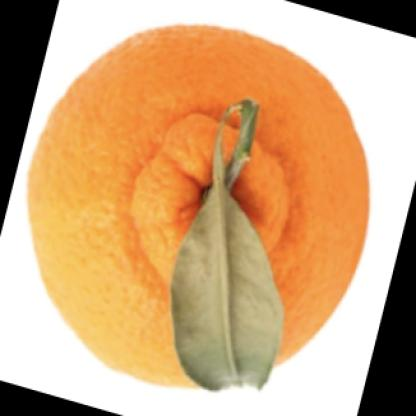fresh: (20, 23, 379, 388)
